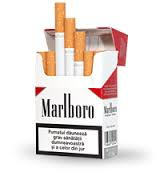marlboro: (36, 63, 101, 154)
